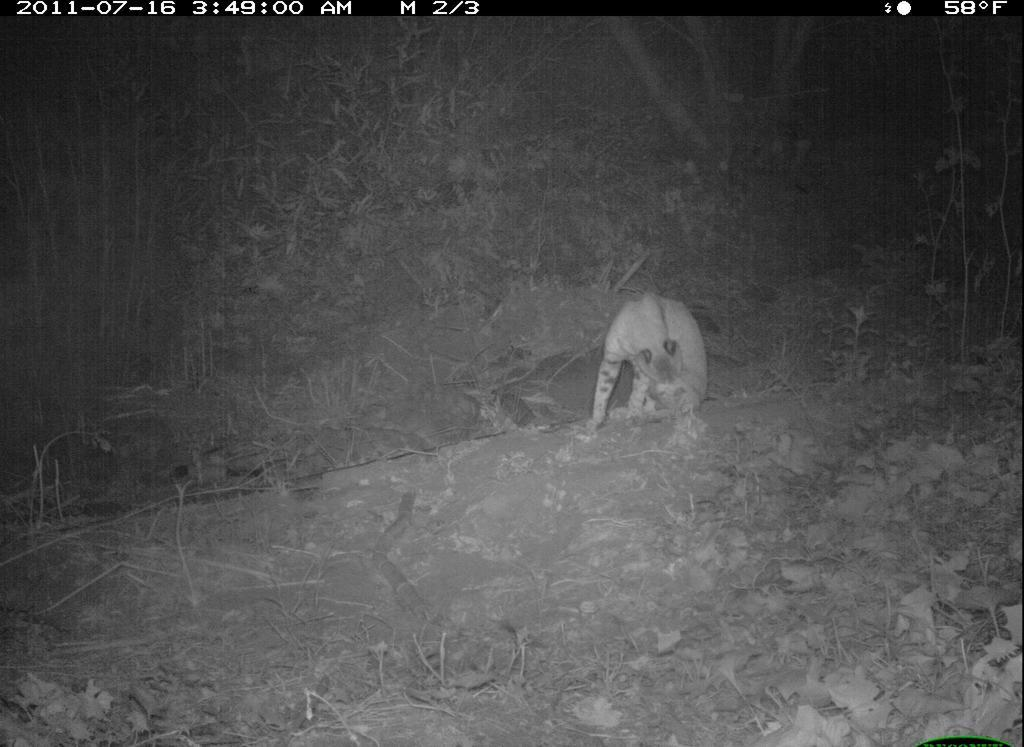bobcat: (573, 281, 729, 445)
